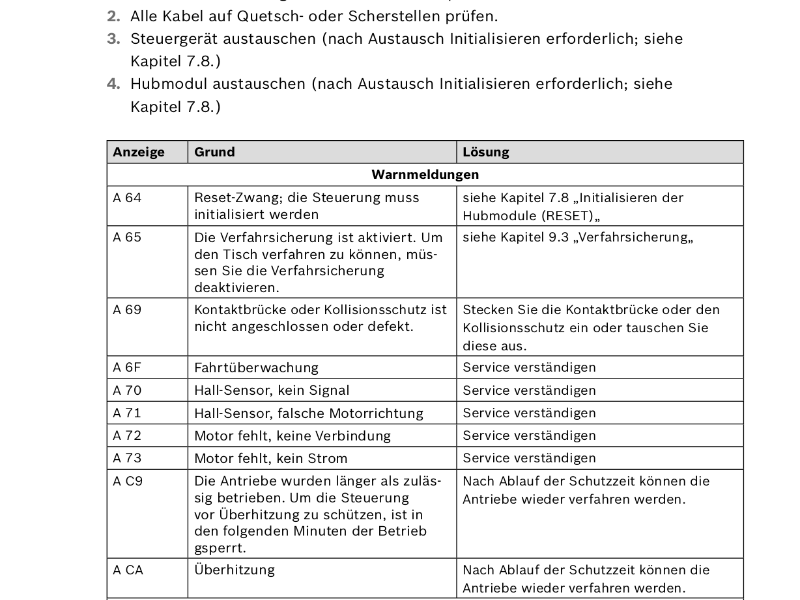border: (99, 133, 751, 600)
cell: (189, 473, 442, 555), (192, 231, 451, 293), (459, 303, 738, 351), (191, 302, 452, 337), (460, 473, 713, 509), (459, 559, 712, 595), (460, 190, 736, 222), (191, 189, 451, 221), (460, 228, 731, 250), (190, 403, 431, 423), (190, 425, 431, 445), (190, 448, 431, 468), (190, 380, 400, 398), (191, 358, 399, 376), (461, 359, 606, 376), (461, 382, 606, 399), (461, 404, 606, 421), (461, 427, 606, 444), (460, 449, 605, 466), (190, 561, 292, 582), (367, 164, 484, 182), (191, 144, 249, 162), (110, 145, 173, 161), (460, 143, 516, 160), (110, 300, 148, 318), (110, 382, 148, 399), (109, 474, 148, 490), (110, 229, 147, 245), (110, 358, 146, 374), (109, 428, 147, 443), (110, 451, 148, 466), (110, 191, 146, 206), (111, 407, 147, 422), (110, 564, 149, 577)
